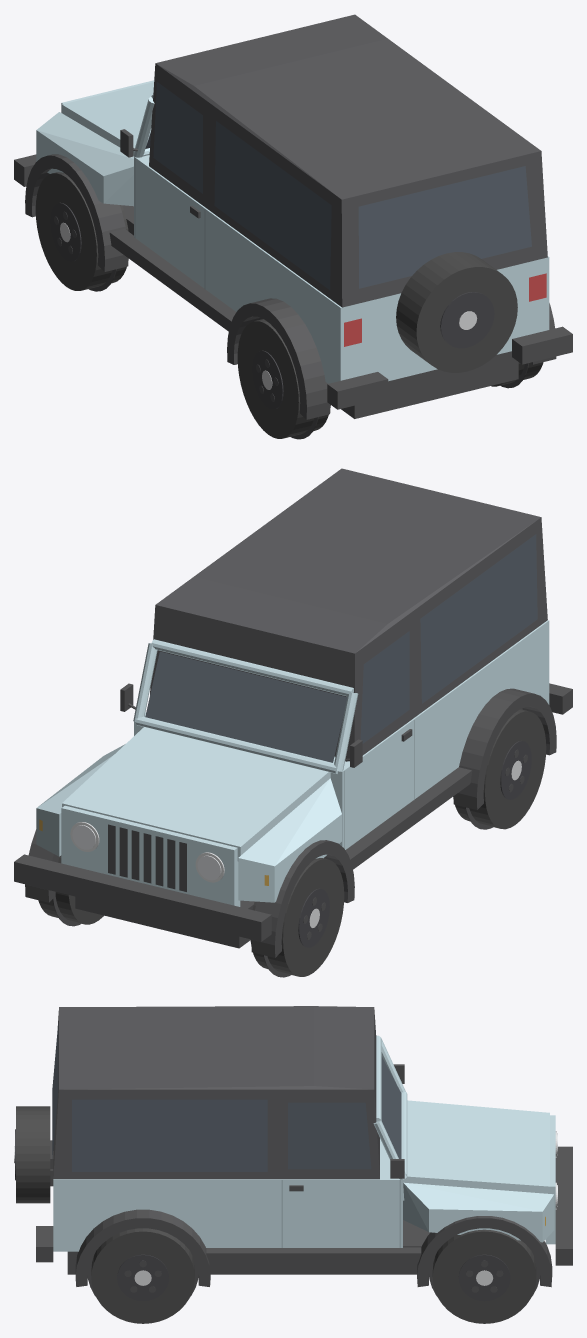
Rendered from g_wrangler_v3.glb.
The picture shows the model from 3 angles, top to bottom: view 1: azimuth 30°, elevation 25°; view 2: azimuth 150°, elevation 25°; view 3: azimuth 270°, elevation 25°; orthographic projection. The views are drawn at different scales.
Visible parts, largest first — view 1: p28, p1, p43, p30, p90, p3, p54, p46, p70, p0, p29, p44 (+8 smaller); view 2: p28, p2, p1, p27, p30, p19, p5, p3, p54, p70, p46, p29 (+13 smaller); view 3: p28, p1, p37, p2, p78, p62, p4, p36, p51, p53, p90, p0 (+11 smaller).
Part boxes in pixels (<box>): p28: <box>149,14,547,307</box>; p1: <box>134,155,549,383</box>; p43: <box>358,166,531,288</box>; p30: <box>214,121,331,290</box>; p90: <box>396,252,517,372</box>; p3: <box>36,112,133,206</box>; p54: <box>35,172,128,290</box>; p46: <box>227,298,330,419</box>; p70: <box>237,319,330,438</box>; p0: <box>122,205,518,418</box>; p29: <box>153,82,202,193</box>; p44: <box>25,154,128,271</box>; p28: <box>150,468,547,758</box>; p2: <box>62,727,330,861</box>; p1: <box>134,620,549,849</box>; p27: <box>145,651,347,762</box>; p30: <box>420,534,537,703</box>; p19: <box>14,854,271,941</box>; p5: <box>61,805,240,906</box>; p3: <box>238,778,341,902</box>; p54: <box>250,858,344,976</box>; p70: <box>455,709,546,829</box>; p46: <box>453,688,556,809</box>; p29: <box>360,631,409,743</box>; p28: <box>53,1006,379,1179</box>; p1: <box>53,1138,402,1251</box>; p37: <box>72,1099,267,1171</box>; p2: <box>403,1100,549,1200</box>; p78: <box>91,1228,194,1323</box>; p62: <box>432,1229,536,1323</box>; p4: <box>403,1182,554,1242</box>; p36: <box>288,1102,371,1169</box>; p51: <box>75,1209,210,1286</box>; p53: <box>206,1247,421,1263</box>; p90: <box>16,1106,50,1203</box>; p0: <box>67,1220,430,1274</box>.
Size of the model in its own units: 1.69 by 1.77 by 3.88.
